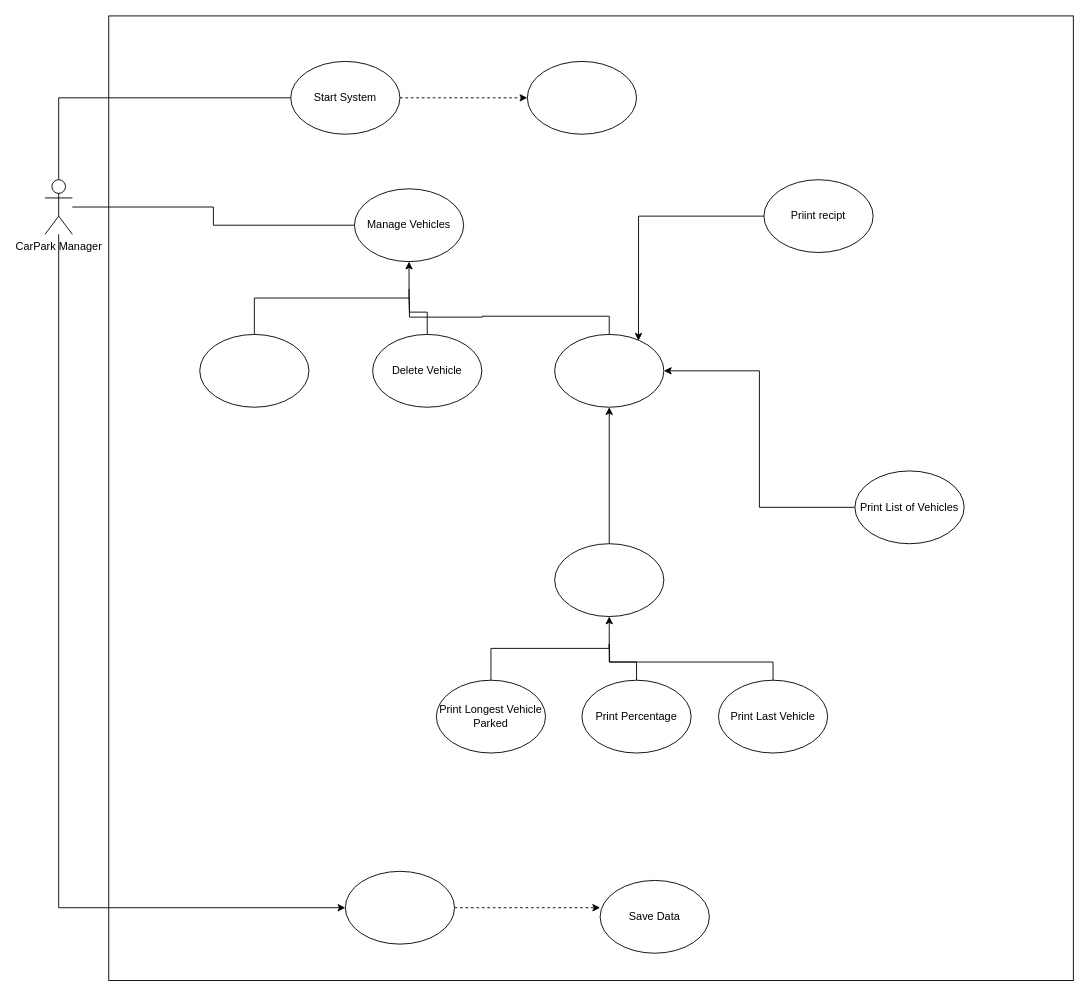
Image size: 1089x996. Some labels were removed from this diagram. The box of each missing label's shape, as (x1, y1, x2, y2) in pixels:
Add Vehicle: (199, 334, 309, 407)
Close System: (344, 870, 455, 944)
Load Data: (526, 61, 637, 134)
Print Statistics: (554, 543, 664, 617)
View Vehicle: (554, 334, 664, 407)
